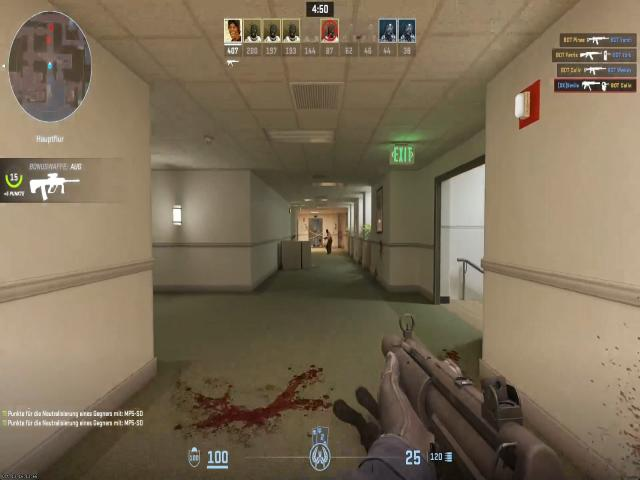T: (322, 226, 334, 253)
T-Head: (325, 226, 331, 238)
